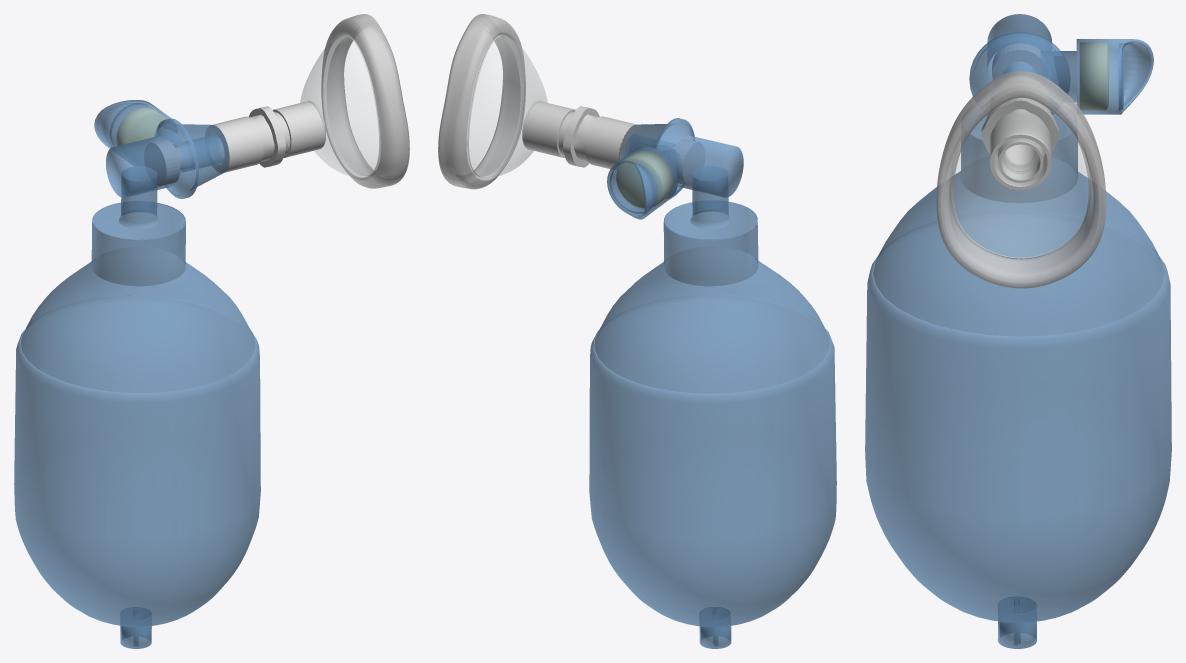
3 renders of one model, left to right at view 1: azimuth 30°, elevation 25°; view 2: azimuth 150°, elevation 25°; view 3: azimuth 270°, elevation 25°, orthographic. The views are drawn at different scales.
Visible parts, largest first — view 1: Object_118, Object_5, Object_4, Object_129, Object_116, Object_123, Object_133, Object_131, Object_125; view 2: Object_118, Object_5, Object_4, Object_116, Object_129, Object_123, Object_131, Object_125, Object_133; view 3: Object_118, Object_4, Object_5, Object_123, Object_116, Object_129, Object_131, Object_125, Object_133.
Boxes of the visible parts, x1=… form: Object_118: x1=14, y1=166, x2=260, y2=626; Object_5: x1=321, y1=14, x2=409, y2=188; Object_4: x1=300, y1=36, x2=378, y2=176; Object_129: x1=106, y1=118, x2=229, y2=198; Object_116: x1=205, y1=101, x2=325, y2=172; Object_123: x1=94, y1=100, x2=183, y2=165; Object_133: x1=144, y1=139, x2=194, y2=185; Object_131: x1=116, y1=107, x2=167, y2=145; Object_125: x1=120, y1=607, x2=151, y2=648; Object_118: x1=589, y1=166, x2=836, y2=626; Object_5: x1=438, y1=14, x2=525, y2=189; Object_4: x1=469, y1=36, x2=547, y2=177; Object_116: x1=522, y1=101, x2=643, y2=169; Object_129: x1=618, y1=118, x2=743, y2=198; Object_123: x1=607, y1=145, x2=680, y2=219; Object_131: x1=616, y1=150, x2=673, y2=208; Object_125: x1=699, y1=607, x2=731, y2=648; Object_133: x1=670, y1=139, x2=704, y2=185; Object_118: x1=865, y1=108, x2=1171, y2=622; Object_4: x1=954, y1=98, x2=1088, y2=256; Object_5: x1=936, y1=71, x2=1106, y2=288; Object_123: x1=1041, y1=39, x2=1153, y2=114; Object_116: x1=981, y1=86, x2=1059, y2=190; Object_129: x1=969, y1=14, x2=1070, y2=114; Object_131: x1=1080, y1=42, x2=1108, y2=110; Object_125: x1=997, y1=597, x2=1036, y2=648; Object_133: x1=992, y1=43, x2=1047, y2=79.
Bounding box in the file's own units: 891 × 1394 × 546.
